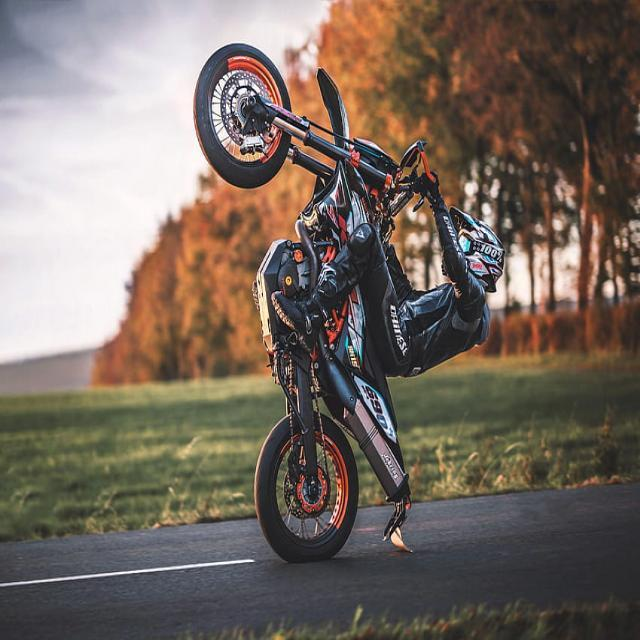Wheeling: (182, 20, 527, 562)
